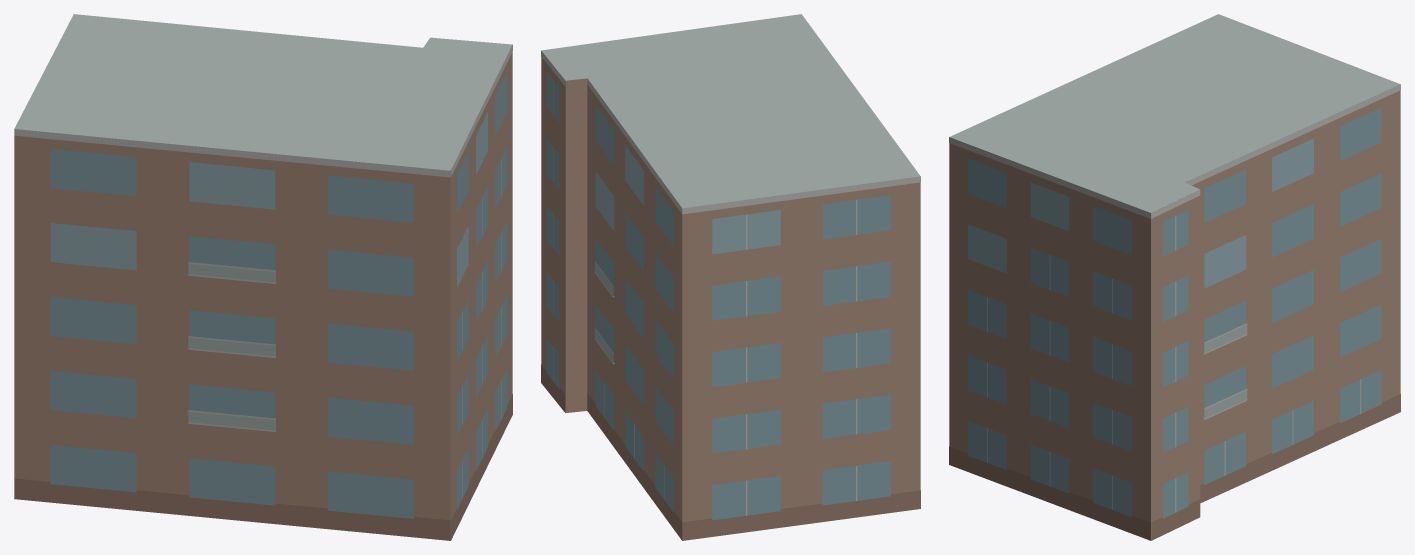
File: survey-upis-32883417.glb
3 views of the same model, side by side, from view 1: azimuth 30°, elevation 25°; view 2: azimuth 150°, elevation 25°; view 3: azimuth 270°, elevation 25° (orthographic). The views are drawn at different scales.
Visible parts, largest first — view 1: survey-upis-32883417.tmp; view 2: survey-upis-32883417.tmp; view 3: survey-upis-32883417.tmp.
Part boxes in pixels (bbox=[...]): survey-upis-32883417.tmp: bbox=[14, 14, 512, 540]; survey-upis-32883417.tmp: bbox=[541, 14, 920, 540]; survey-upis-32883417.tmp: bbox=[949, 14, 1400, 540].
Size of the model in its own units: 17.59 by 13.5 by 16.86.
